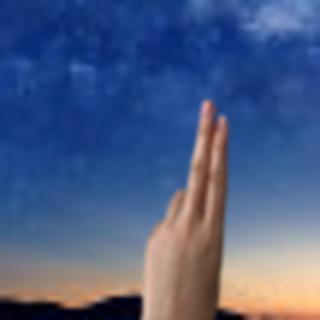DHAVE: (130, 94, 239, 320)
